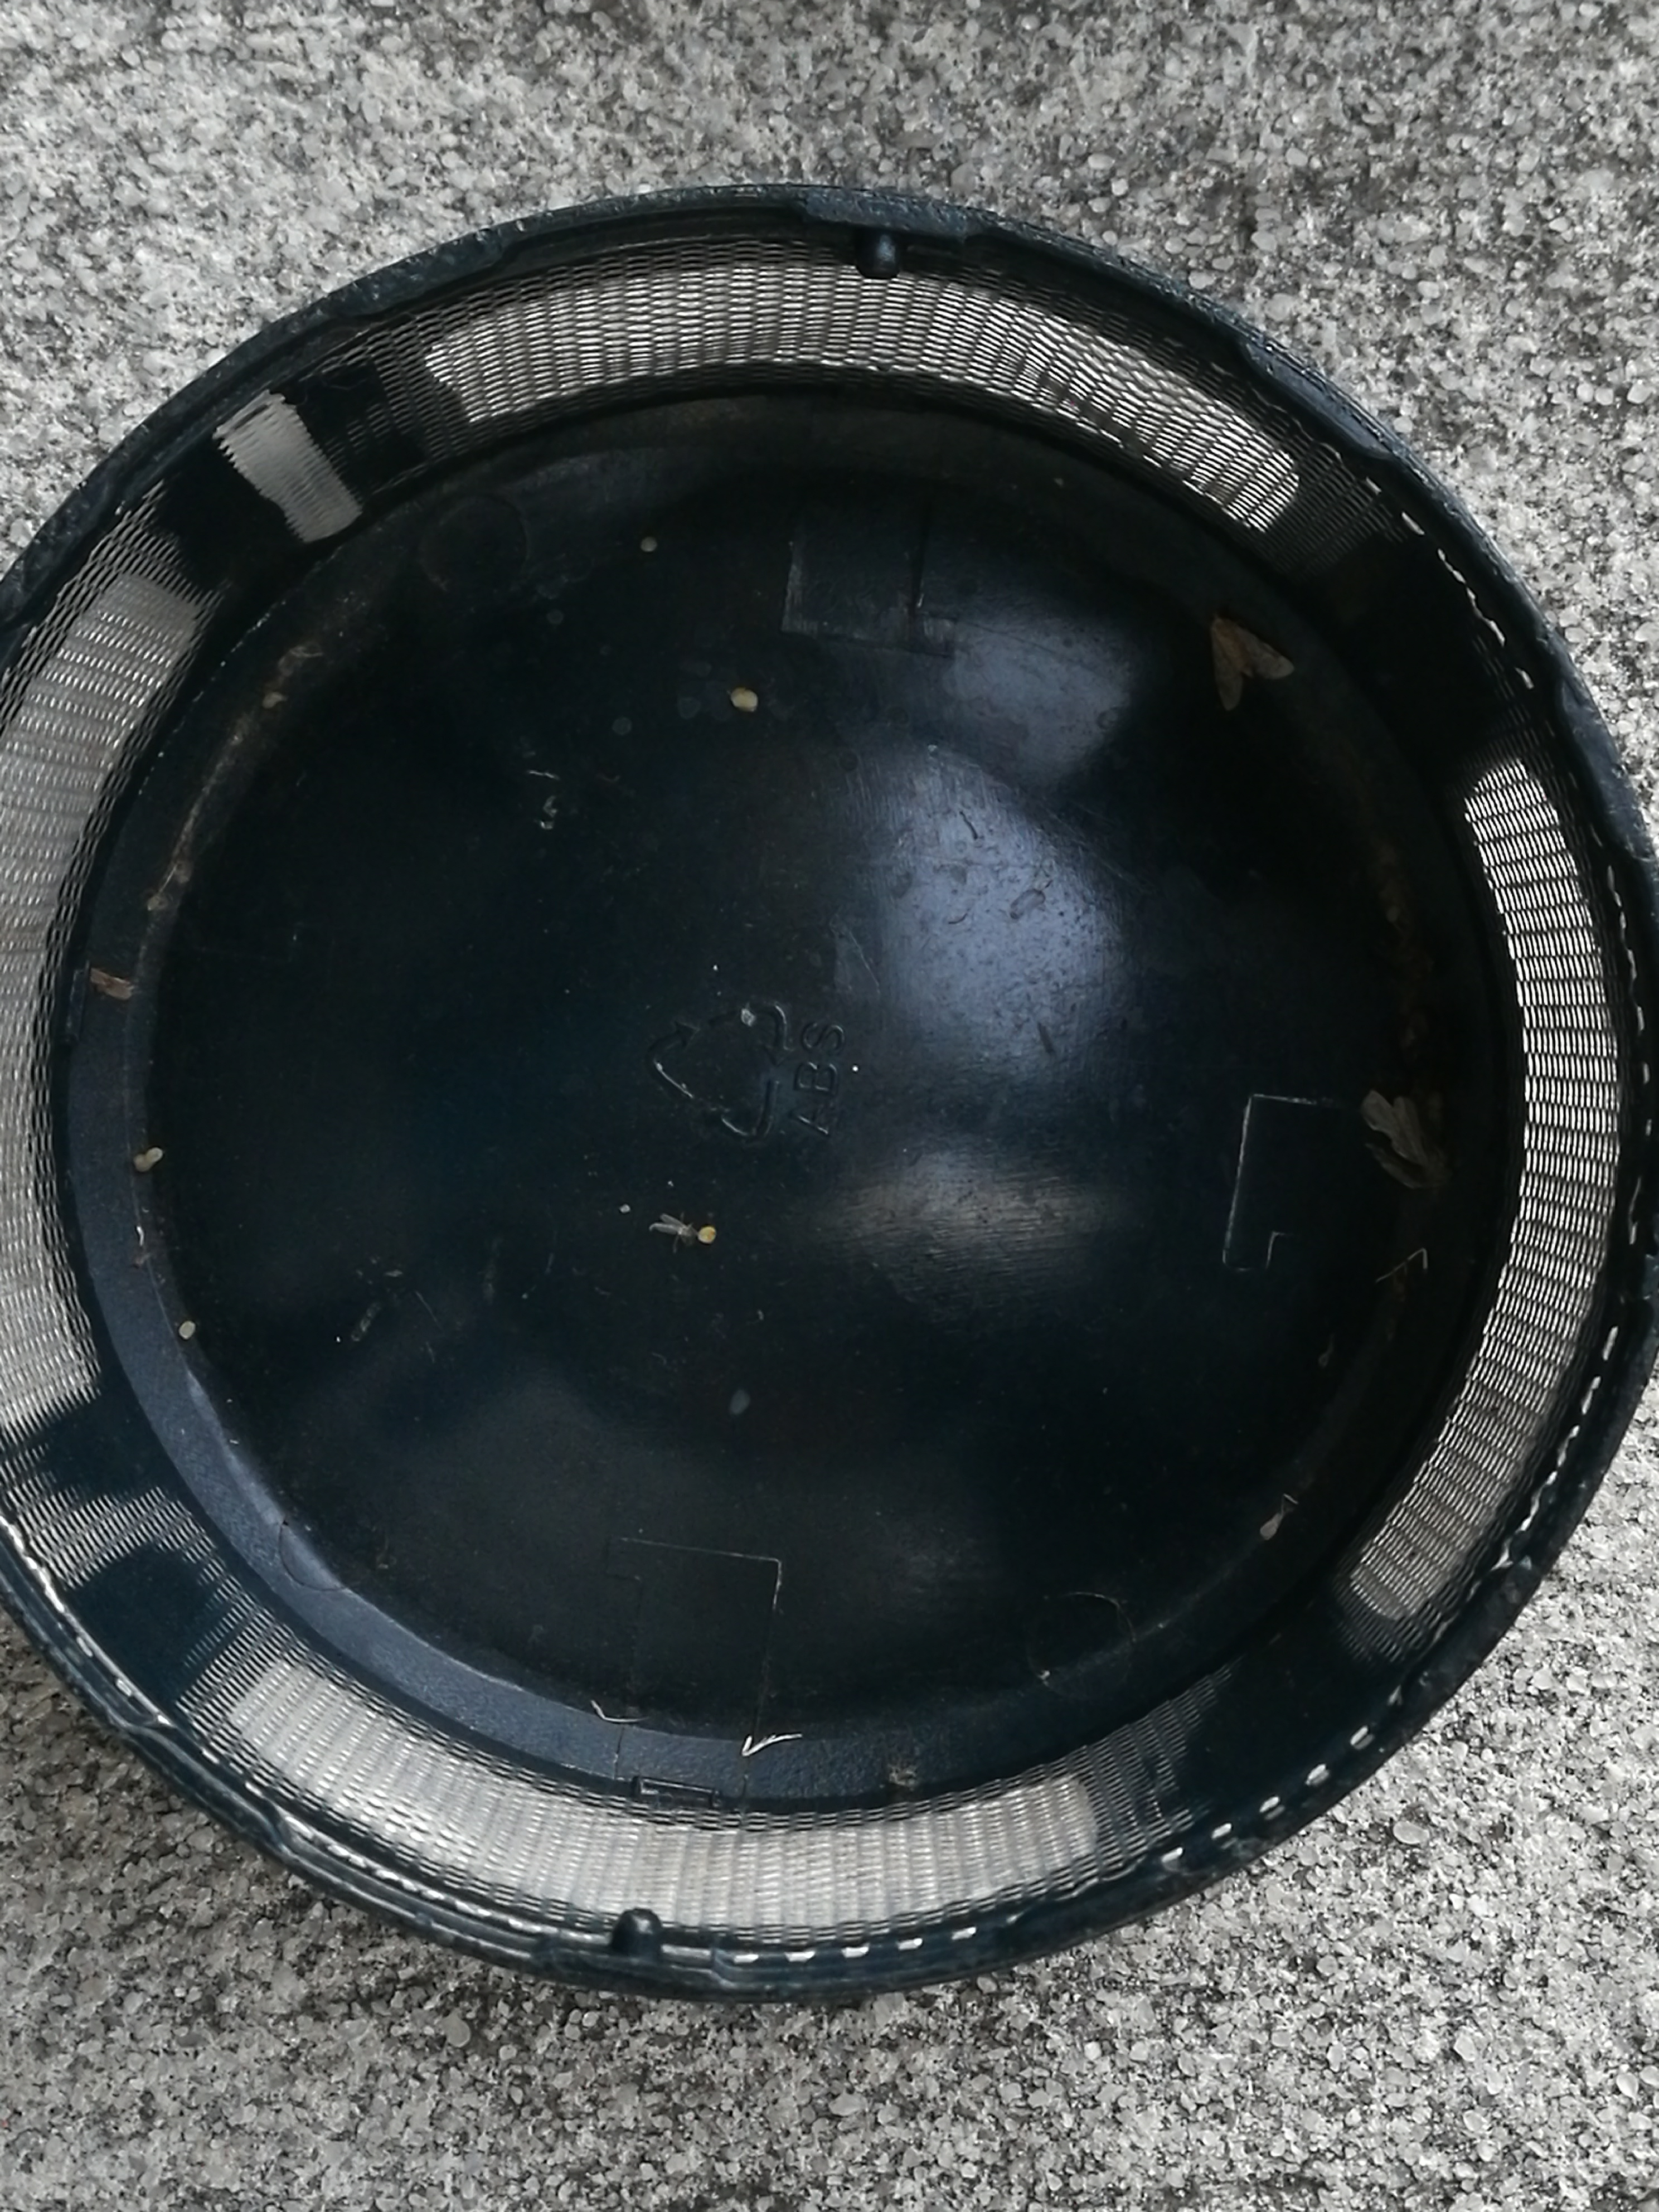beetle: (648, 1214, 699, 1242)
mosquito: (1396, 1005, 1439, 1076)
moth: (1361, 1089, 1448, 1191), (1211, 613, 1293, 711)
